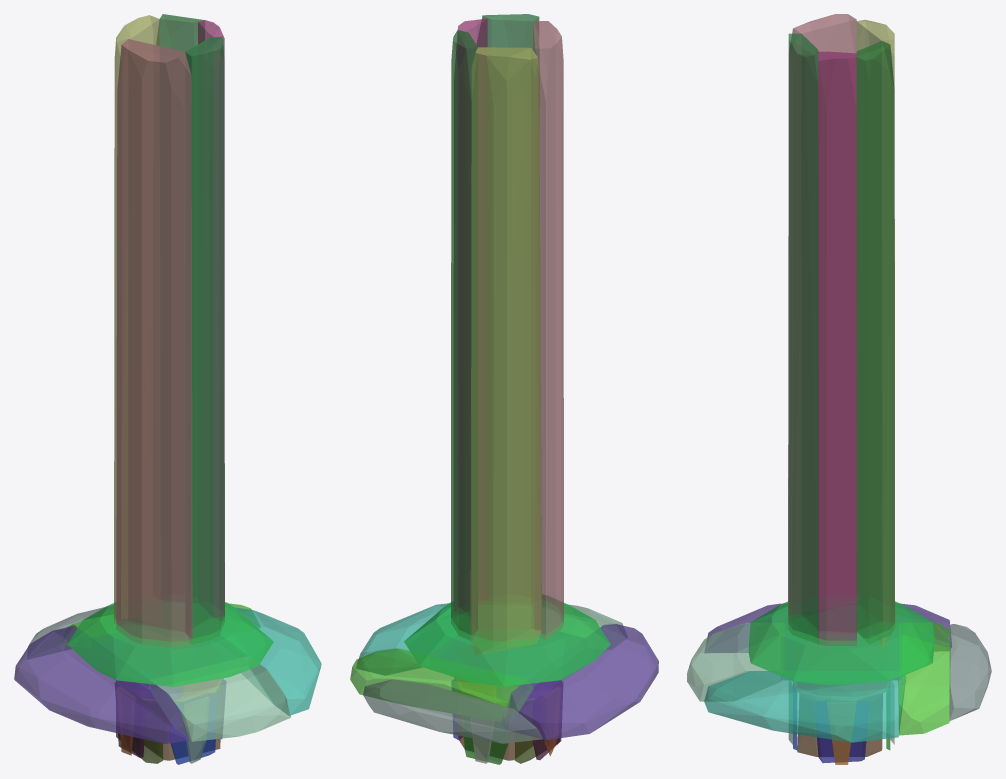
3 renders of one model, left to right at view 1: azimuth 30°, elevation 25°; view 2: azimuth 150°, elevation 25°; view 3: azimuth 270°, elevation 25°, orthographic.
Visible parts, largest first — view 1: Shape_IndexedFaceSet.004, Shape_IndexedFaceSet.008, Shape_IndexedFaceSet.002, Shape_IndexedFaceSet.003, Shape_IndexedFaceSet.007, Shape_IndexedFaceSet.001, Shape_IndexedFaceSet.012, Shape_IndexedFaceSet.018, Shape_IndexedFaceSet.016, Shape_IndexedFaceSet.019, Shape_IndexedFaceSet.010, Shape_IndexedFaceSet.020 (+5 smaller); view 2: Shape_IndexedFaceSet.002, Shape_IndexedFaceSet.008, Shape_IndexedFaceSet.004, Shape_IndexedFaceSet.003, Shape_IndexedFaceSet.001, Shape_IndexedFaceSet.012, Shape_IndexedFaceSet.007, Shape_IndexedFaceSet.014, Shape_IndexedFaceSet.010, Shape_IndexedFaceSet.016, Shape_IndexedFaceSet.018, Shape_IndexedFaceSet.015 (+5 smaller); view 3: Shape_IndexedFaceSet.004, Shape_IndexedFaceSet.007, Shape_IndexedFaceSet.003, Shape_IndexedFaceSet.002, Shape_IndexedFaceSet.008, Shape_IndexedFaceSet.001, Shape_IndexedFaceSet.016, Shape_IndexedFaceSet.018, Shape_IndexedFaceSet.014, Shape_IndexedFaceSet.010, Shape_IndexedFaceSet.012, Shape_IndexedFaceSet.021 (+4 smaller).
Boxes of the visible parts, bbox=[...] form: Shape_IndexedFaceSet.004: bbox=[116, 39, 192, 647]; Shape_IndexedFaceSet.008: bbox=[185, 36, 224, 644]; Shape_IndexedFaceSet.002: bbox=[114, 15, 159, 623]; Shape_IndexedFaceSet.003: bbox=[156, 14, 204, 596]; Shape_IndexedFaceSet.007: bbox=[198, 20, 224, 621]; Shape_IndexedFaceSet.001: bbox=[67, 602, 273, 686]; Shape_IndexedFaceSet.012: bbox=[14, 625, 189, 743]; Shape_IndexedFaceSet.018: bbox=[150, 664, 290, 741]; Shape_IndexedFaceSet.016: bbox=[220, 606, 321, 715]; Shape_IndexedFaceSet.019: bbox=[169, 694, 217, 764]; Shape_IndexedFaceSet.010: bbox=[27, 605, 113, 659]; Shape_IndexedFaceSet.020: bbox=[116, 696, 163, 763]; Shape_IndexedFaceSet.002: bbox=[470, 47, 541, 655]; Shape_IndexedFaceSet.008: bbox=[477, 14, 539, 597]; Shape_IndexedFaceSet.004: bbox=[533, 21, 563, 640]; Shape_IndexedFaceSet.003: bbox=[451, 30, 477, 640]; Shape_IndexedFaceSet.001: bbox=[404, 595, 610, 686]; Shape_IndexedFaceSet.012: bbox=[501, 624, 658, 739]; Shape_IndexedFaceSet.007: bbox=[454, 18, 487, 611]; Shape_IndexedFaceSet.014: bbox=[350, 648, 533, 721]; Shape_IndexedFaceSet.010: bbox=[363, 679, 542, 743]; Shape_IndexedFaceSet.016: bbox=[356, 603, 457, 675]; Shape_IndexedFaceSet.018: bbox=[560, 604, 627, 649]; Shape_IndexedFaceSet.015: bbox=[462, 702, 508, 764]; Shape_IndexedFaceSet.004: bbox=[788, 14, 856, 620]; Shape_IndexedFaceSet.007: bbox=[818, 51, 856, 645]; Shape_IndexedFaceSet.003: bbox=[856, 41, 894, 643]; Shape_IndexedFaceSet.002: bbox=[856, 19, 895, 648]; Shape_IndexedFaceSet.008: bbox=[788, 33, 818, 643]; Shape_IndexedFaceSet.001: bbox=[748, 601, 934, 684]; Shape_IndexedFaceSet.016: bbox=[704, 671, 905, 742]; Shape_IndexedFaceSet.018: bbox=[687, 622, 781, 701]; Shape_IndexedFaceSet.014: bbox=[898, 622, 950, 735]; Shape_IndexedFaceSet.010: bbox=[949, 624, 991, 720]; Shape_IndexedFaceSet.012: bbox=[704, 603, 951, 652]; Shape_IndexedFaceSet.021: bbox=[797, 693, 882, 756].
Size of the model in its own units: 0.3411 by 0.8787 by 0.3436.
